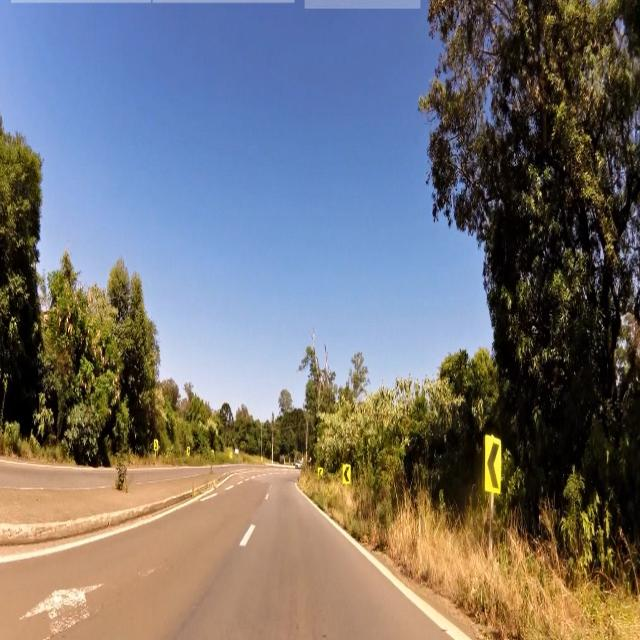Del: (484, 434, 501, 493)
